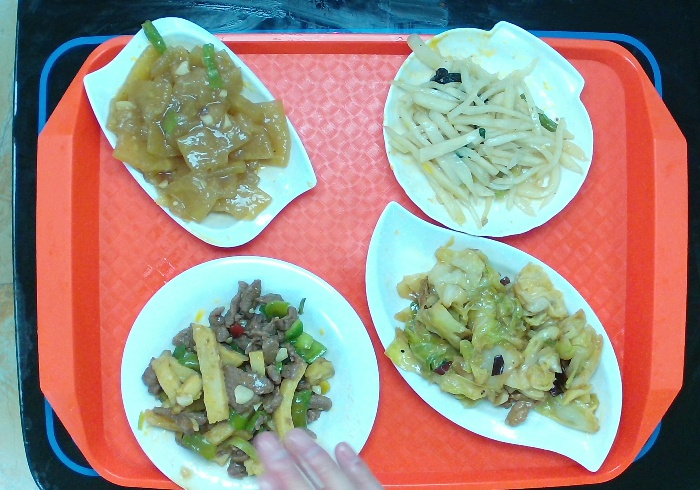RJxy-Bei_Ke_Wan: (380, 18, 600, 242)
RJxy-Jian_Jiao_Fang_Die: (73, 9, 322, 254)
RJxy-Jian_Jiao_Pan: (362, 195, 631, 475)
RJxy-Yuan_Pan: (120, 245, 388, 490)
